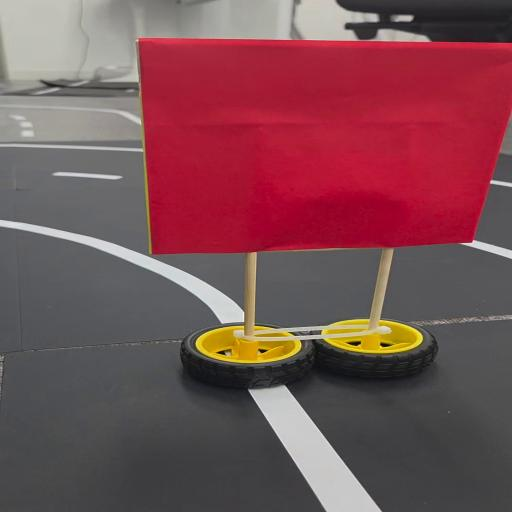Sign_A: (136, 39, 512, 382)
